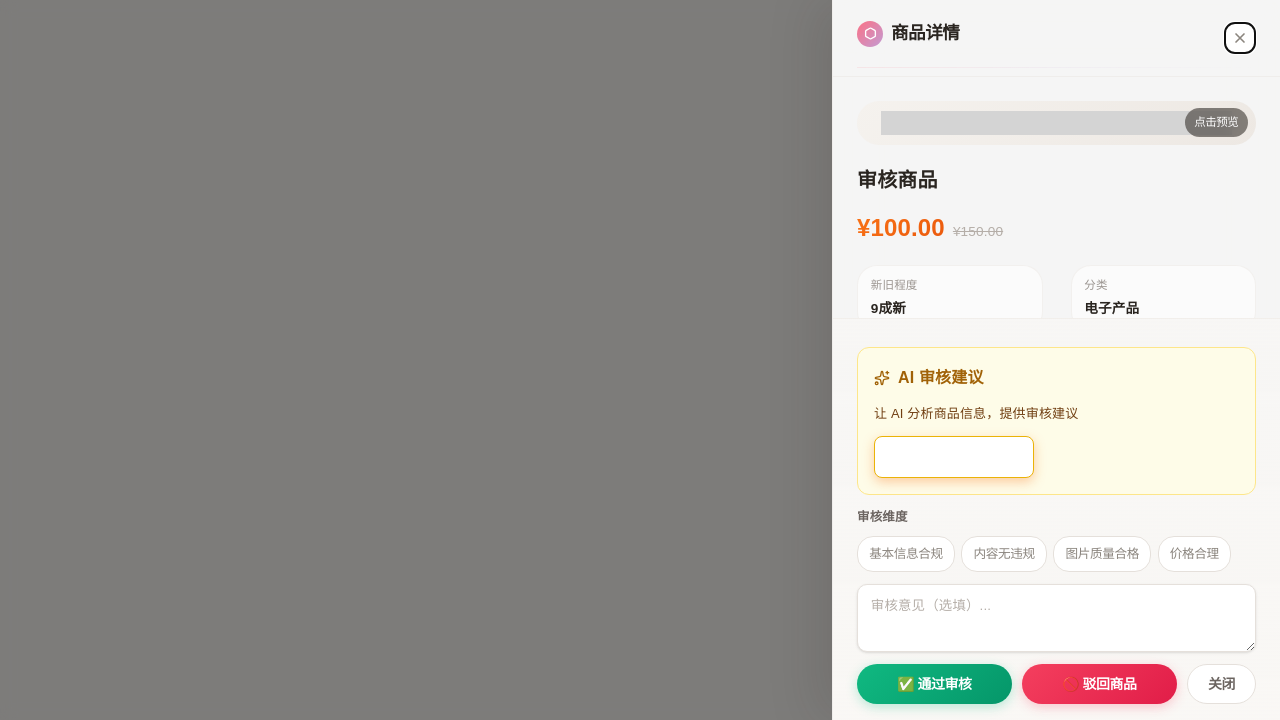
Test case: ProductDetailDrawer › enables confirm reject button when reason is typed
Step 1. Click the button "🚫 驳回商品" → (1099, 684), box [1022,664,1177,704]
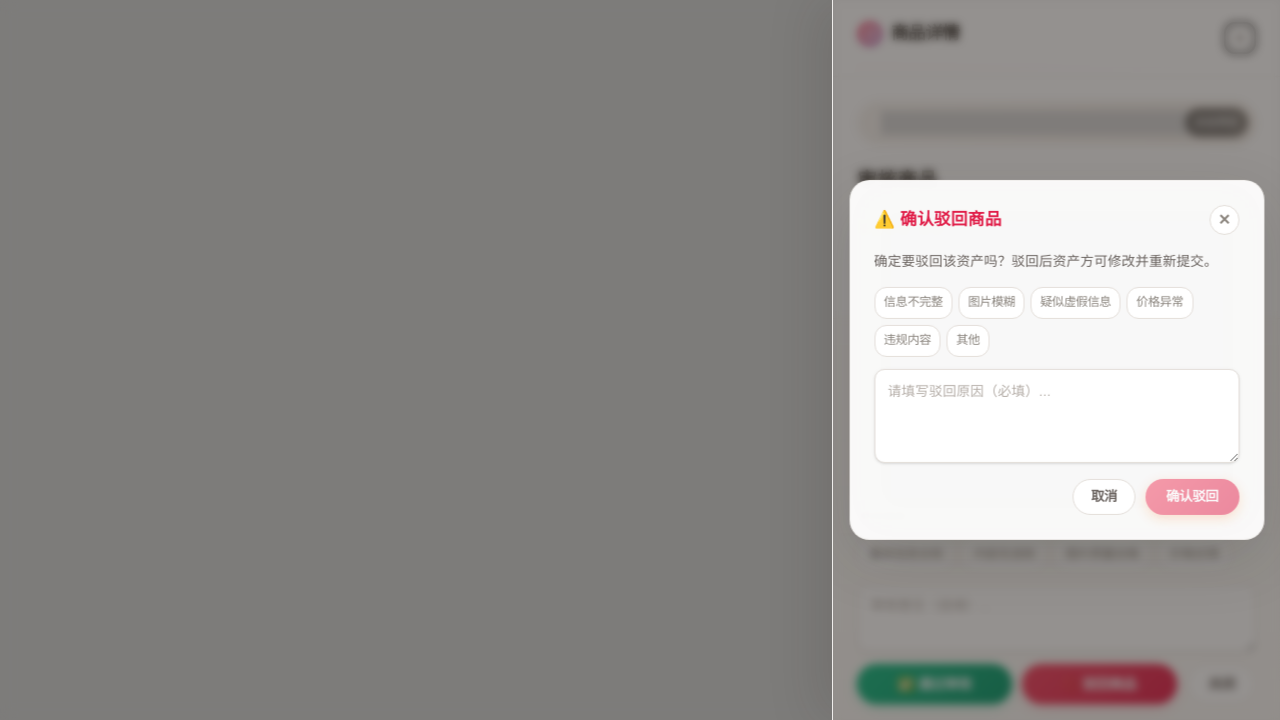
Type a reason
Step 2. Type "信息不完整" into the text box with placeholder "请填写驳回原因（必填）..." → (1056, 416), box [874,369,1239,463]
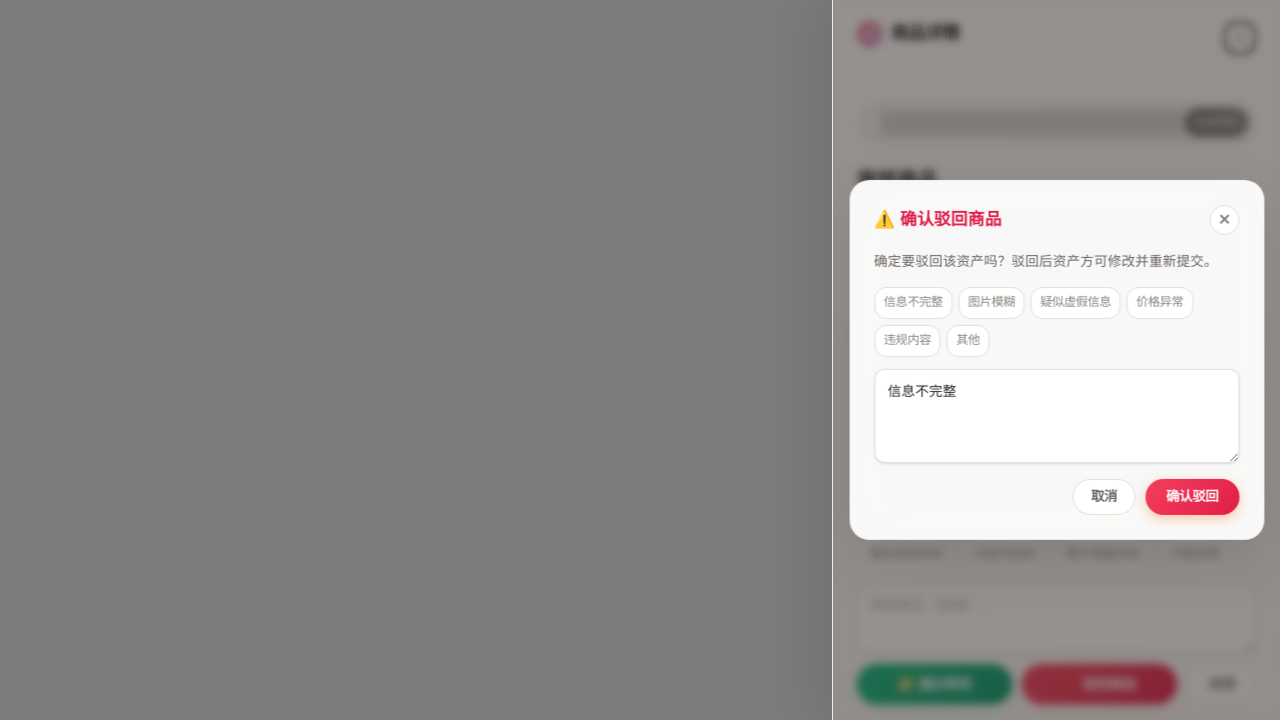
Expected: the button "确认驳回" is enabled, [1145,479,1239,515]
